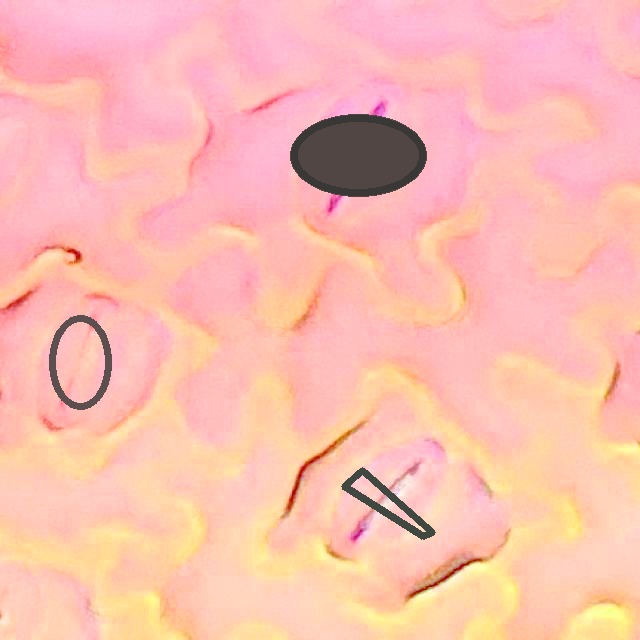close: (49, 313, 111, 410)
open: (291, 114, 426, 196), (341, 467, 435, 539)
